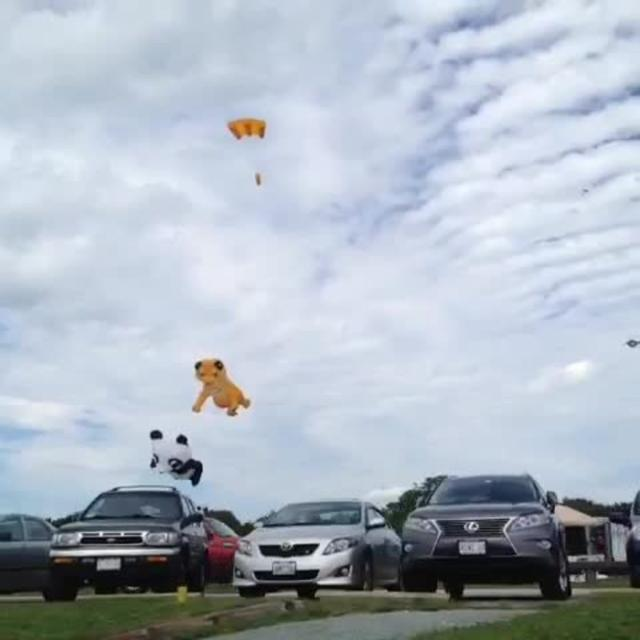car: (401, 468, 575, 601), (48, 483, 204, 587)
